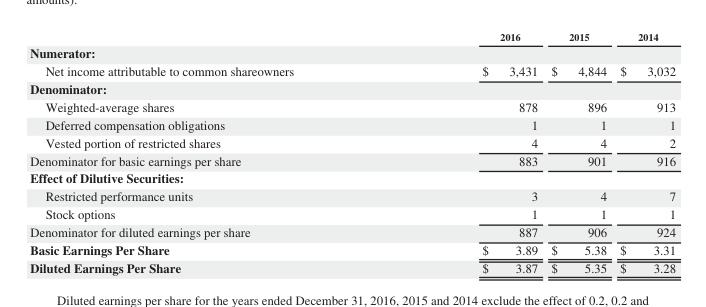table: (29, 29, 675, 276)
table column: (29, 29, 387, 276), (387, 29, 543, 276), (543, 29, 612, 276), (612, 29, 675, 276)
table column header: (29, 29, 675, 43)
table projected row header: (29, 43, 675, 61), (29, 79, 675, 97), (29, 168, 675, 186)
table row: (29, 43, 675, 61), (29, 61, 675, 79), (29, 79, 675, 97), (29, 97, 675, 115), (29, 132, 675, 150), (29, 150, 675, 168), (29, 168, 675, 186), (29, 186, 675, 204), (29, 204, 675, 222), (29, 222, 675, 240), (29, 240, 675, 258), (29, 258, 675, 276), (29, 115, 675, 132), (29, 29, 675, 43)
